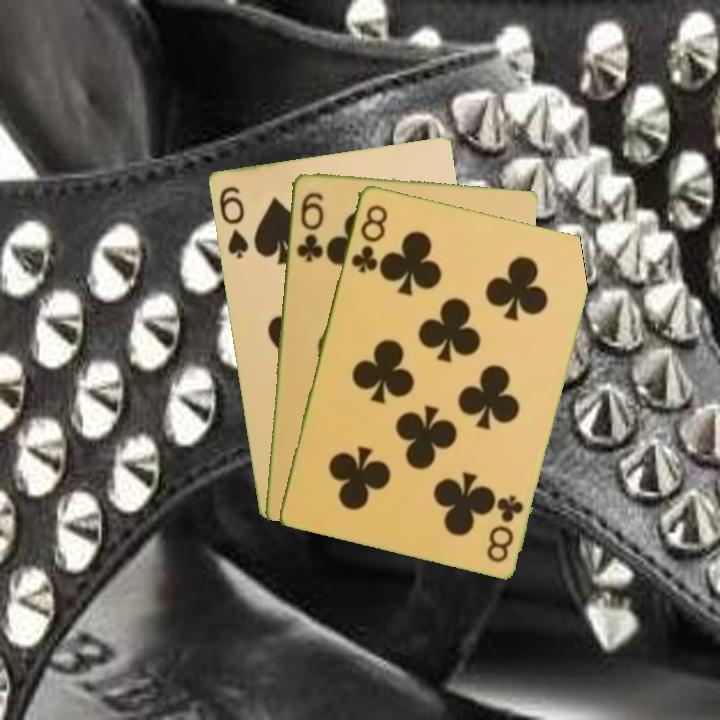6c: (292, 188, 327, 264)
6s: (215, 182, 251, 261)
8c: (347, 200, 391, 276), (483, 491, 526, 565)
